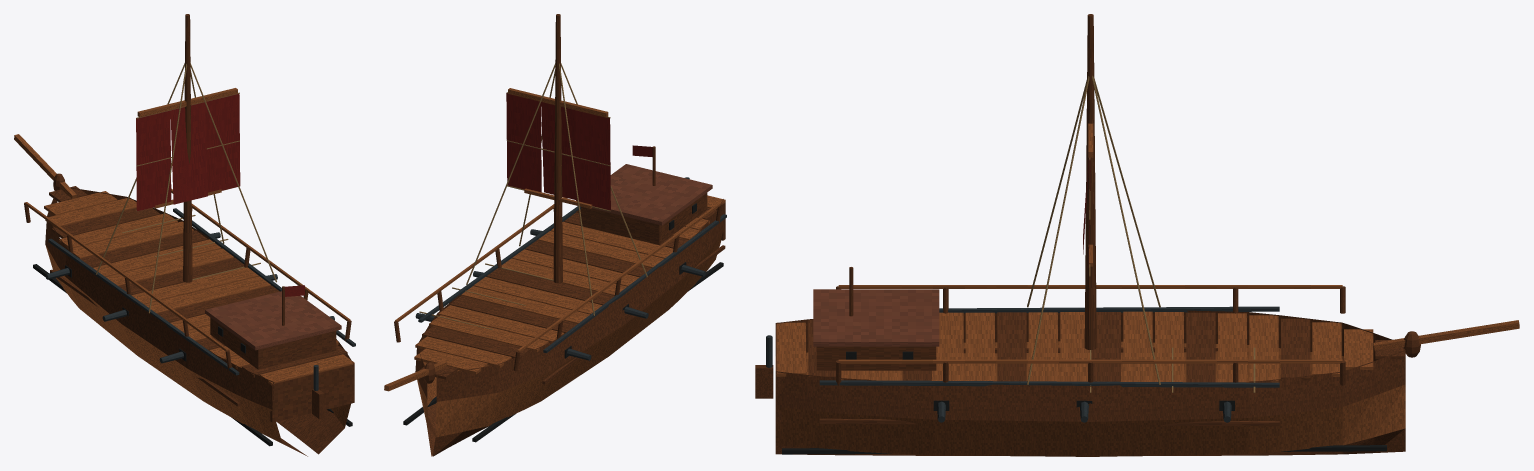
File: KIT_ship_armada_sloop.gltf
3 renders of one model, left to right at view 1: azimuth 30°, elevation 25°; view 2: azimuth 150°, elevation 25°; view 3: azimuth 270°, elevation 25°, orthographic. The views are drawn at different scales.
Visible parts, largest first — view 1: hull, sail_01, rudder; view 2: hull, sail_01; view 3: hull, rudder.
Boxes of the visible parts, box(x1,y1,x2,y2) form: hull: box(14, 14, 355, 456); sail_01: box(136, 92, 240, 211); rudder: box(312, 365, 324, 418); hull: box(384, 14, 726, 456); sail_01: box(506, 92, 610, 211); hull: box(775, 14, 1519, 456); rudder: box(755, 335, 773, 398).
Bounding box in the file's own units: 4.94 × 9.55 × 15.17.
7 materials, 7 textured.
